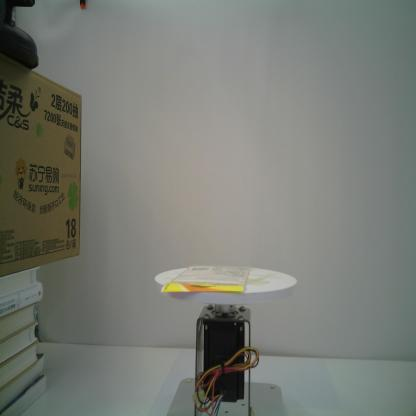Stationery: (160, 262, 252, 294)
